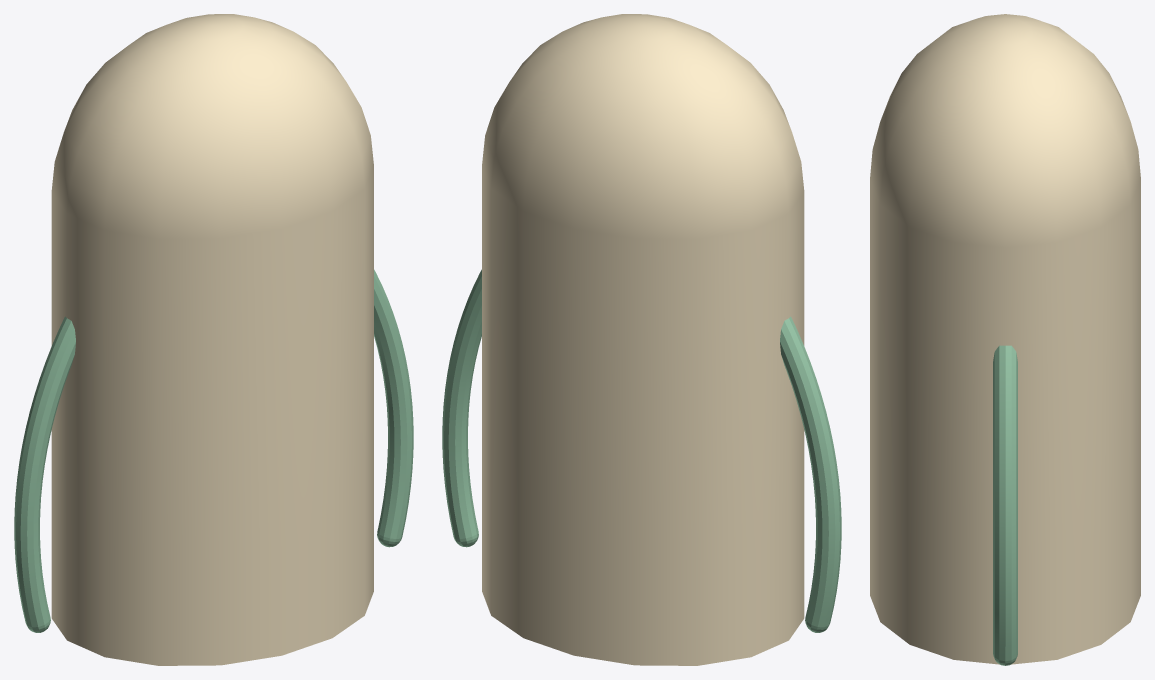
The model's file is avatar.fbx.
3 views of the same model, side by side, from view 1: azimuth 30°, elevation 25°; view 2: azimuth 150°, elevation 25°; view 3: azimuth 270°, elevation 25° (orthographic). The views are drawn at different scales.
Parts seen in each view (by area): view 1: avatar; view 2: avatar; view 3: avatar.
Boxes of the visible parts, bbox=[...] form: avatar: bbox=[14, 14, 413, 665]; avatar: bbox=[442, 14, 841, 665]; avatar: bbox=[870, 14, 1140, 665].
Size of the model in its own units: 2.72 by 3.8 by 1.65.
